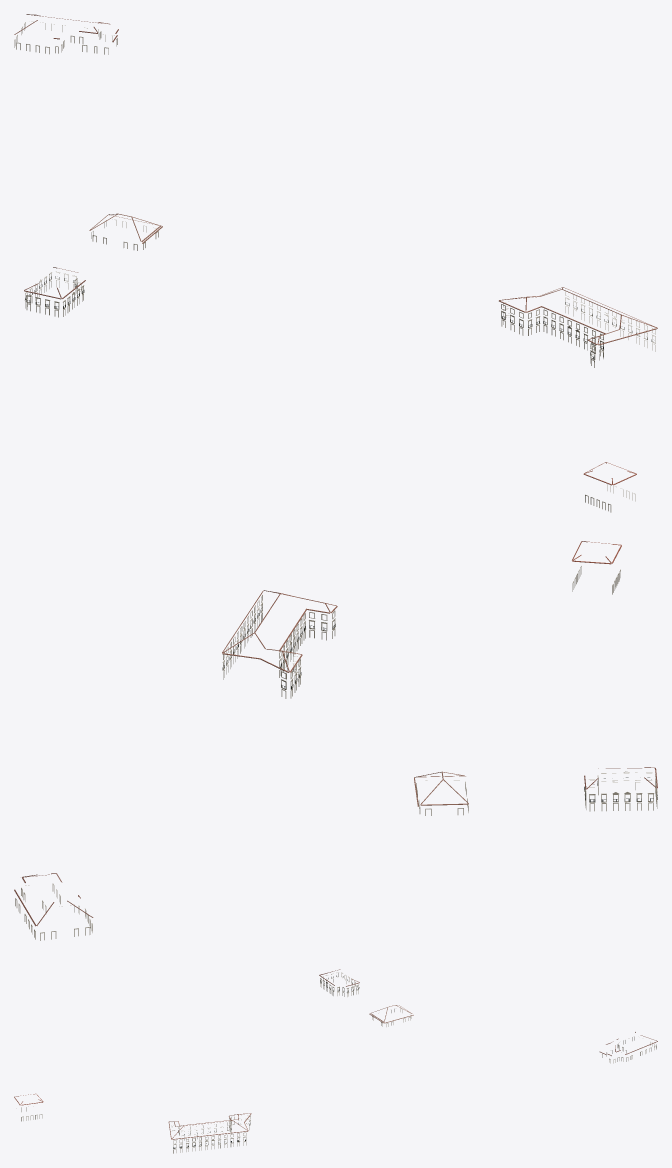
3 views of the same model, one above another, from view 1: azimuth 30°, elevation 25°; view 2: azimuth 150°, elevation 25°; view 3: azimuth 270°, elevation 25° (orthographic). The views are drawn at different scales.
Visible parts, largest first — view 1: detail; view 2: detail; view 3: detail.
Part boxes in pixels (box(x1,y1,x2,y2)): detail: box(14, 14, 657, 512); detail: box(14, 541, 657, 940); detail: box(14, 969, 657, 1153).
Bounding box in the file's own units: 197 × 44.47 × 383.
